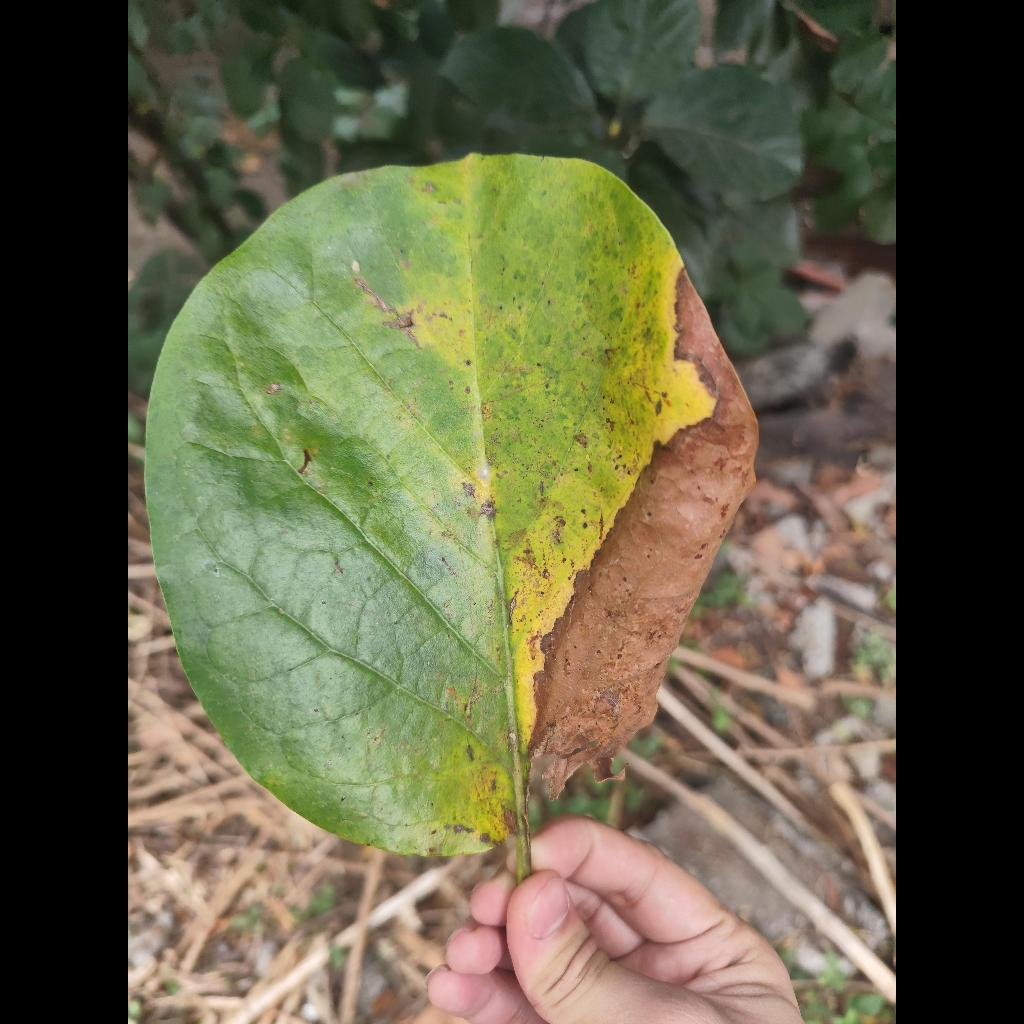deficiencia_nutricional: (146, 154, 757, 855)
